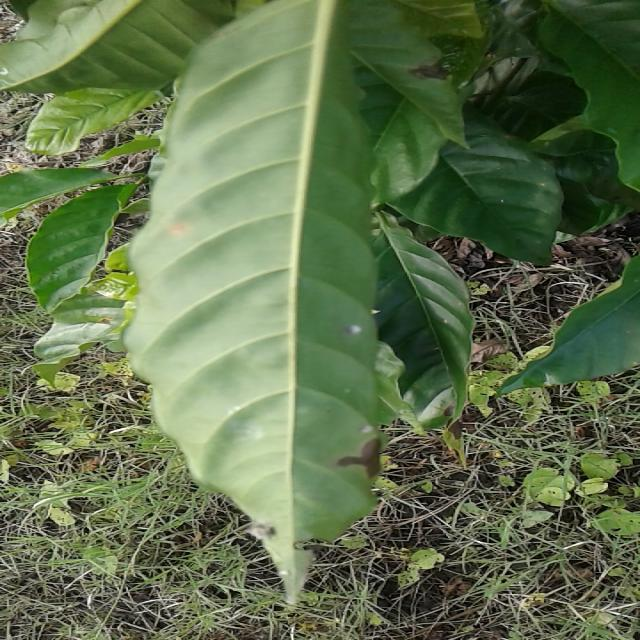Enfermedad-Roya: (125, 0, 422, 610)
